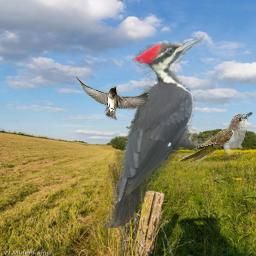Cuckoo: (178, 112, 253, 162)
Swallow: (74, 75, 151, 121)
Woodpecker: (102, 33, 213, 228)
